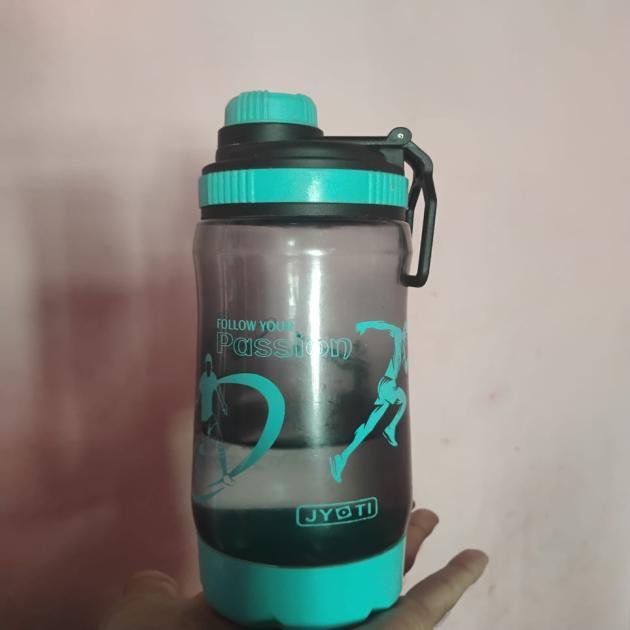waterbottle: (177, 83, 441, 626)
